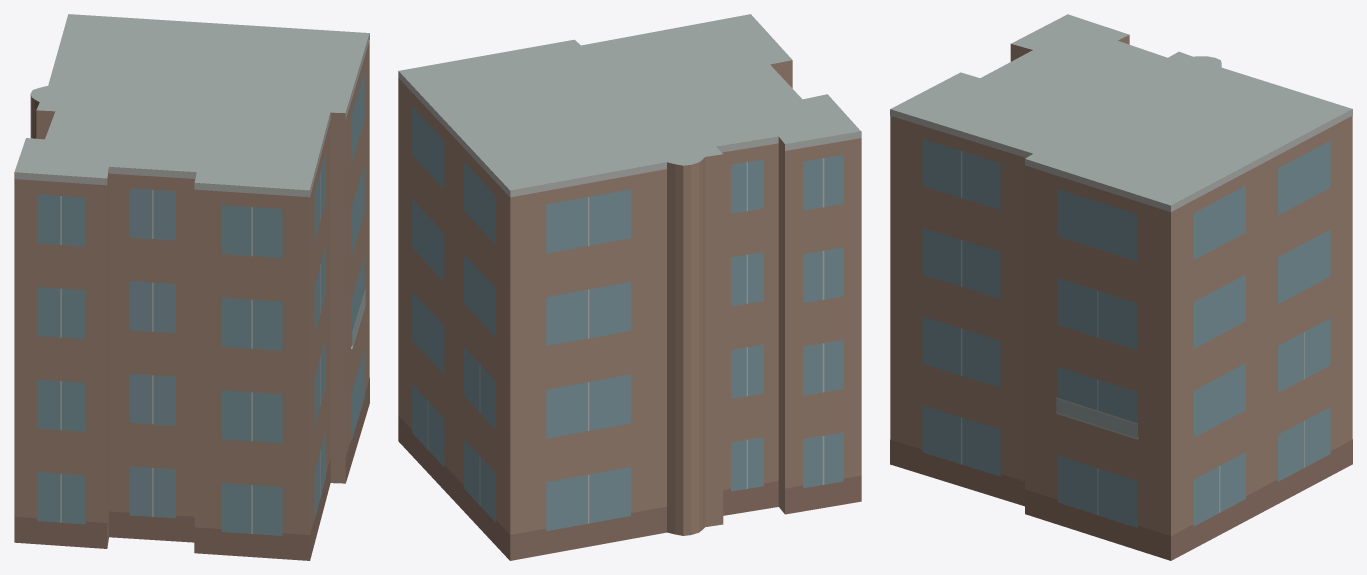
The model's file is survey-upis-32678571.glb.
The picture shows the model from 3 angles, left to right: view 1: azimuth 30°, elevation 25°; view 2: azimuth 150°, elevation 25°; view 3: azimuth 270°, elevation 25°; orthographic projection. The views are drawn at different scales.
Parts seen in each view (by area): view 1: survey-upis-32678571.tmp; view 2: survey-upis-32678571.tmp; view 3: survey-upis-32678571.tmp.
Boxes of the visible parts, x1,y1,x2,y2 form: survey-upis-32678571.tmp: [14, 14, 369, 560]; survey-upis-32678571.tmp: [398, 14, 861, 560]; survey-upis-32678571.tmp: [890, 14, 1352, 560].
Size of the model in its own units: 15.34 by 13.25 by 15.65.
